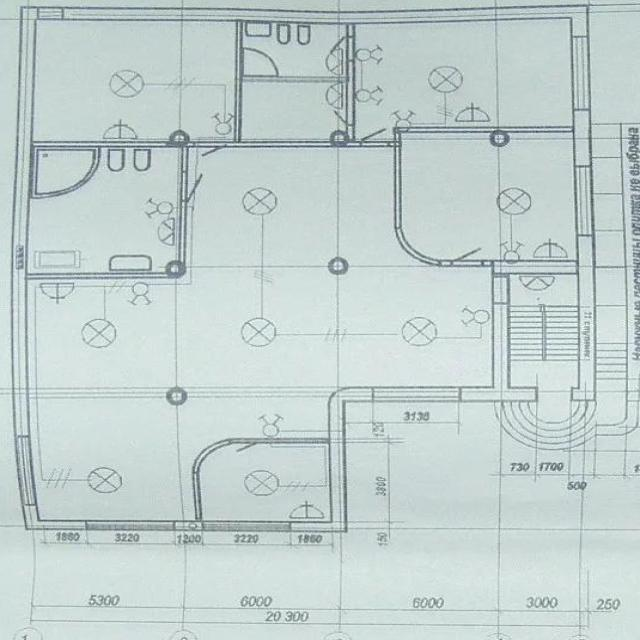Bathrooms: (28, 148, 180, 272), (244, 25, 348, 77)
Corridors: (29, 148, 492, 520), (243, 84, 345, 138)
Doors: (179, 170, 206, 203), (452, 243, 487, 267), (327, 34, 357, 60), (360, 126, 394, 146), (194, 141, 228, 160), (492, 275, 510, 305), (538, 387, 570, 402), (330, 108, 356, 126), (231, 438, 259, 454)
LBwalls: (65, 3, 590, 36), (291, 385, 372, 533), (10, 6, 37, 436), (462, 305, 539, 403), (576, 236, 596, 387), (23, 506, 85, 532), (492, 259, 576, 274), (573, 110, 593, 166), (571, 387, 597, 402), (176, 521, 203, 531)
Offices: (357, 19, 570, 139), (34, 20, 235, 140), (403, 133, 575, 259), (201, 444, 328, 519)
Stairs: (511, 275, 576, 387), (493, 401, 599, 452)
Walls: (392, 125, 573, 267), (227, 22, 361, 149), (28, 200, 188, 280), (33, 140, 195, 170), (191, 438, 233, 521), (260, 437, 329, 443), (347, 25, 356, 36)
Windows: (13, 436, 38, 506), (372, 386, 461, 402), (571, 37, 589, 111), (575, 166, 594, 236), (86, 519, 176, 532), (203, 521, 291, 531), (37, 6, 64, 20)
